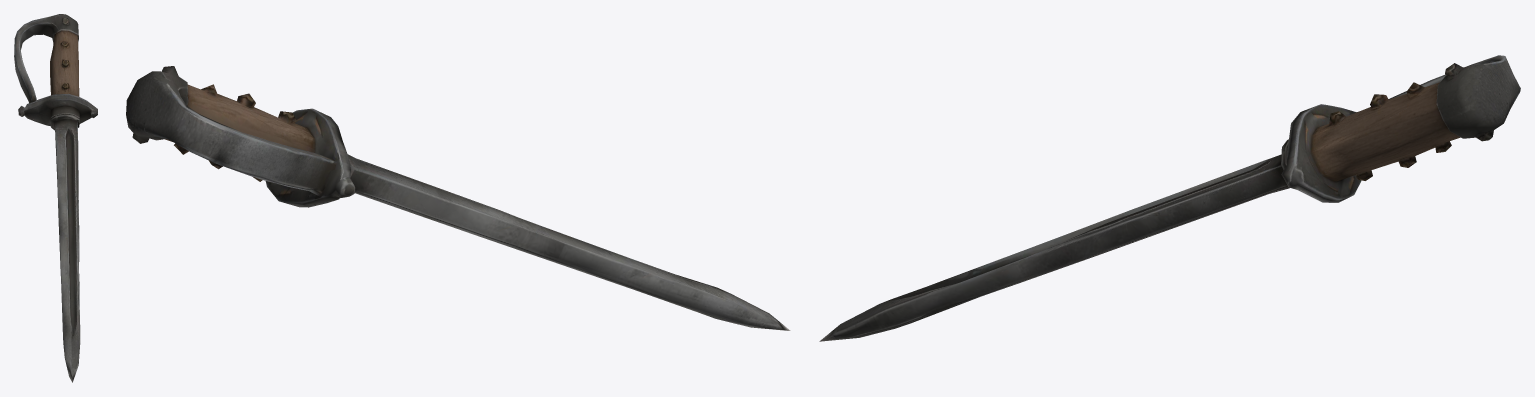
File: cavalry_spd_melee.glb
The picture shows the model from 3 angles, left to right: view 1: azimuth 30°, elevation 25°; view 2: azimuth 150°, elevation 25°; view 3: azimuth 270°, elevation 25°; orthographic projection. The views are drawn at different scales.
Visible parts, largest first — view 1: tripo_node_b6535ec6-9db9-4f2e-ac3d-195c8b76eeac; view 2: tripo_node_b6535ec6-9db9-4f2e-ac3d-195c8b76eeac; view 3: tripo_node_b6535ec6-9db9-4f2e-ac3d-195c8b76eeac.
Boxes of the visible parts, left/top/right/bottom form: tripo_node_b6535ec6-9db9-4f2e-ac3d-195c8b76eeac: left=14, top=14, right=97, bottom=382; tripo_node_b6535ec6-9db9-4f2e-ac3d-195c8b76eeac: left=126, top=66, right=790, bottom=330; tripo_node_b6535ec6-9db9-4f2e-ac3d-195c8b76eeac: left=819, top=55, right=1520, bottom=341.
Size of the model in its own units: 0.254 by 0.307 by 0.4598.
1 material, 1 textured.
